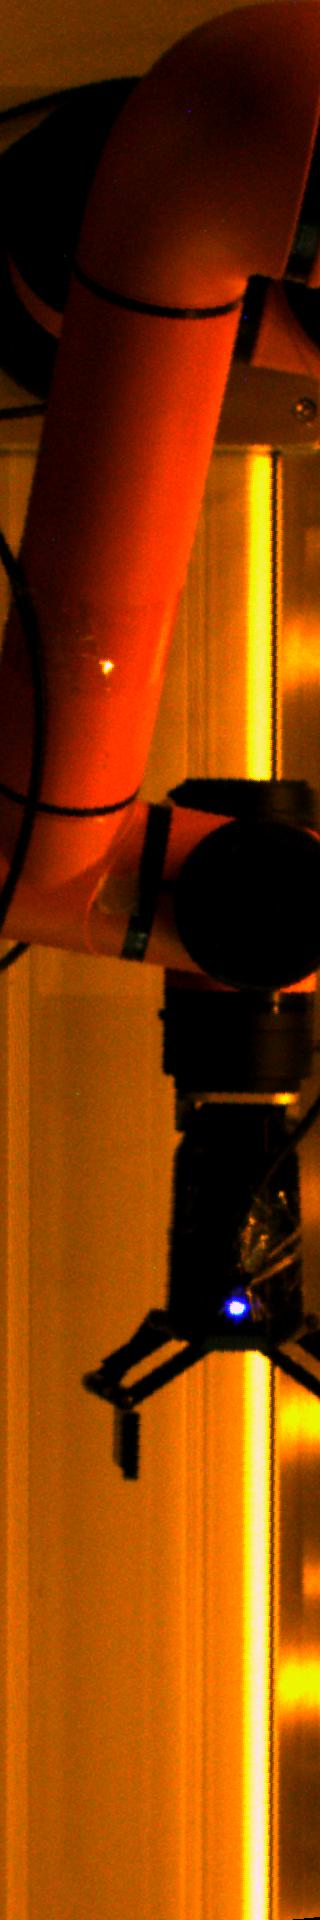keyPoint_1: (221, 1291, 251, 1320)
